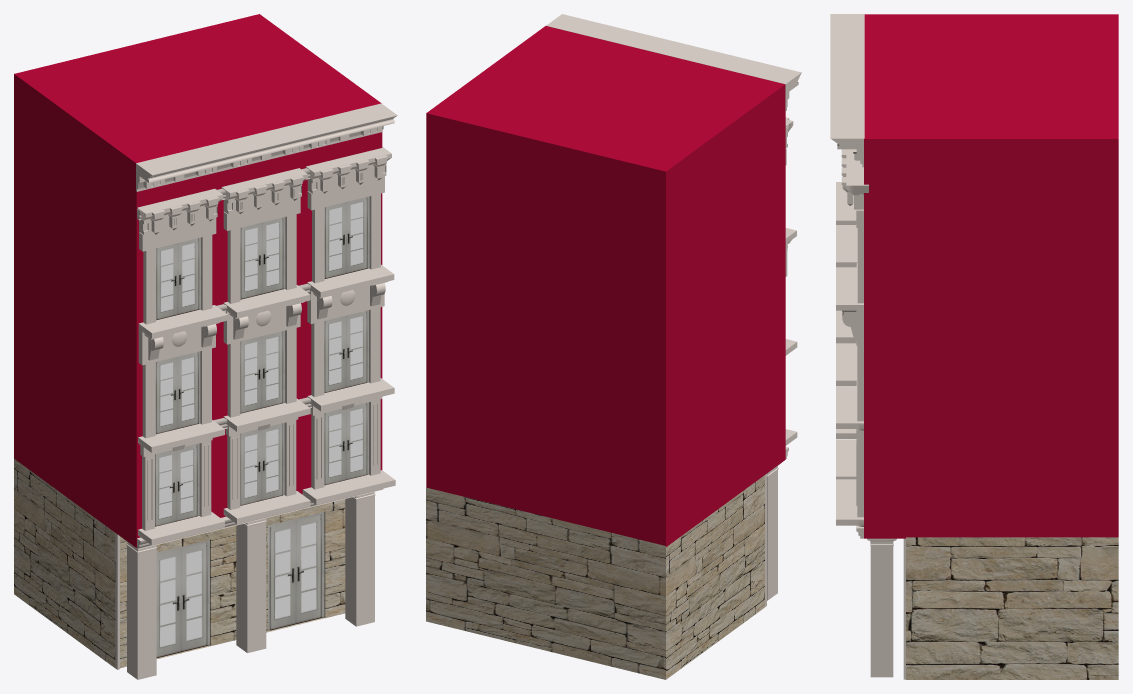
File: first_buiding.fbx
The picture shows the model from 3 angles, left to right: view 1: azimuth 30°, elevation 25°; view 2: azimuth 150°, elevation 25°; view 3: azimuth 270°, elevation 25°; orthographic projection. The views are drawn at different scales.
Parts seen in each view (by area): view 1: pCube76, pCube23, polySurface239, polySurface157, polySurface158, polySurface156, polySurface150, polySurface147, polySurface148, polySurface151, polySurface152, polySurface153 (+44 smaller); view 2: pCube76, pCube23, polySurface239, polySurface158; view 3: pCube76, pCube23, polySurface239, polySurface156, polySurface173, polySurface189, polySurface188, polySurface167, polySurface186, polySurface172, polySurface256, polySurface187 (+3 smaller).
Part boxes in pixels (left/top/right/bottom): pCube76: left=14, top=14, right=382, bottom=548; pCube23: left=14, top=459, right=345, bottom=668; polySurface239: left=136, top=103, right=397, bottom=191; polySurface157: left=236, top=518, right=266, bottom=652; polySurface158: left=123, top=538, right=157, bottom=679; polySurface156: left=345, top=492, right=375, bottom=626; polySurface150: left=155, top=351, right=200, bottom=434; polySurface147: left=324, top=196, right=369, bottom=278; polySurface148: left=240, top=217, right=285, bottom=299; polySurface151: left=240, top=330, right=284, bottom=413; polySurface152: left=324, top=310, right=368, bottom=392; polySurface153: left=155, top=443, right=199, bottom=526; pCube76: left=426, top=26, right=785, bottom=546; pCube23: left=426, top=475, right=764, bottom=679; polySurface239: left=546, top=14, right=801, bottom=111; polySurface158: left=767, top=463, right=780, bottom=600; pCube76: left=864, top=14, right=1118, bottom=538; pCube23: left=906, top=537, right=1118, bottom=679; polySurface239: left=830, top=14, right=864, bottom=167; polySurface156: left=867, top=538, right=896, bottom=677; polySurface173: left=836, top=479, right=863, bottom=526; polySurface189: left=836, top=386, right=863, bottom=430; polySurface188: left=836, top=267, right=863, bottom=310; polySurface167: left=836, top=343, right=857, bottom=385; polySurface186: left=836, top=225, right=857, bottom=267; polySurface172: left=836, top=439, right=856, bottom=479; polySurface256: left=846, top=149, right=868, bottom=195; polySurface187: left=836, top=182, right=856, bottom=224.
Size of the model in its own units: 13.12 by 26.38 by 12.74.
Materials: 8 (5 with a texture image).
